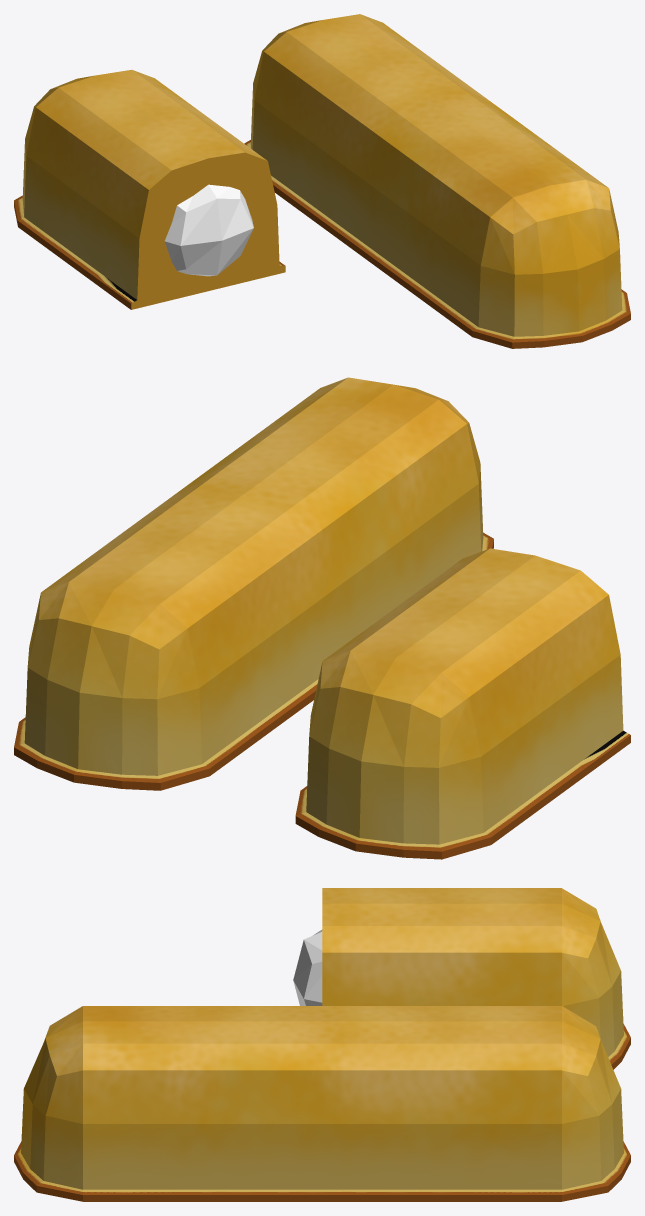
The model's file is twinky.obj.
3 views of the same model, one above another, from view 1: azimuth 30°, elevation 25°; view 2: azimuth 150°, elevation 25°; view 3: azimuth 270°, elevation 25° (orthographic). The views are drawn at different scales.
Bounding box in the file's own units: 1.37 × 0.4551 × 1.81.
